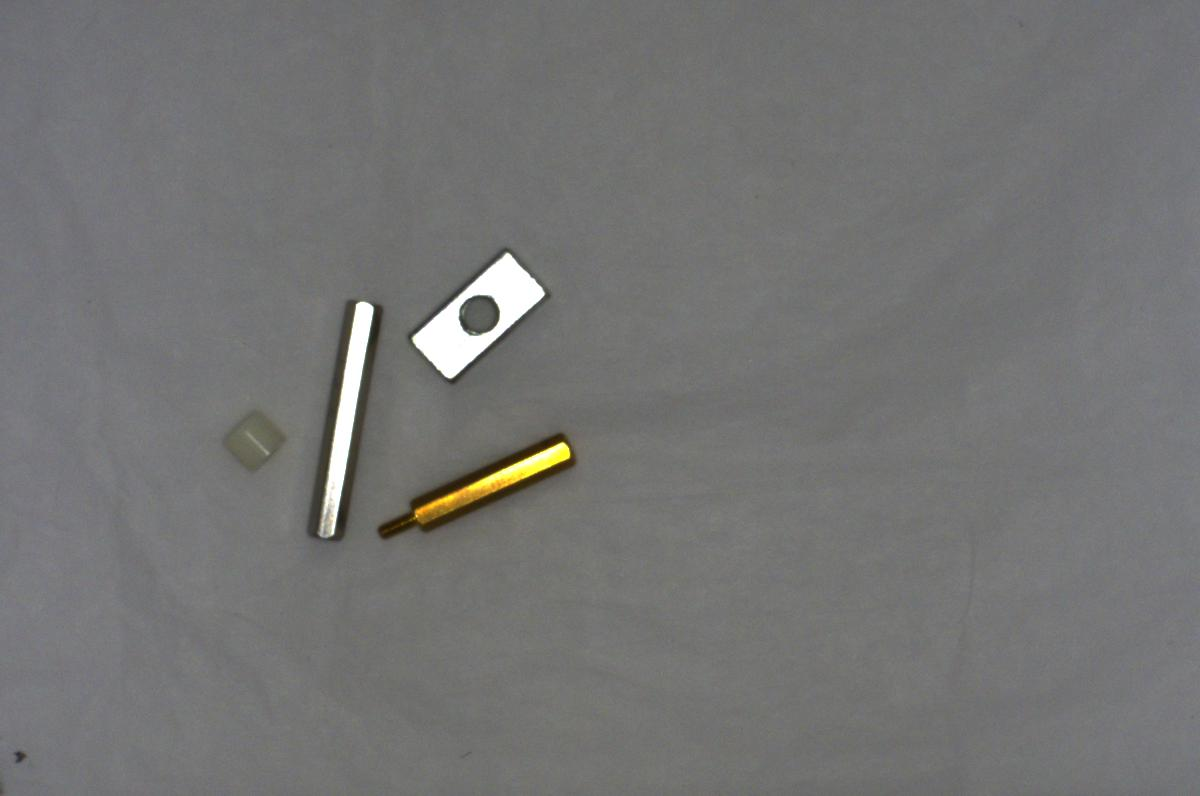Double hexagonal column: (301, 290, 380, 548)
Hexagon pillar: (374, 427, 582, 543)
Plastic cushion pillar: (211, 406, 288, 469)
Rectangular nut: (401, 240, 559, 381)
